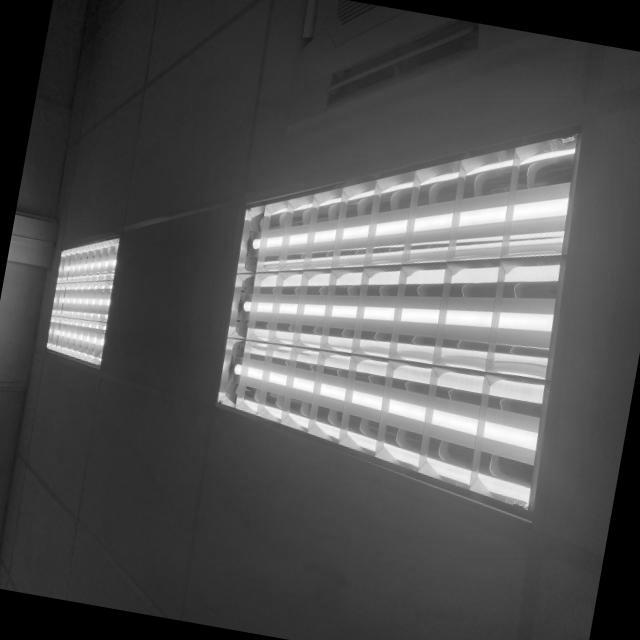light: (215, 132, 577, 511), (45, 236, 119, 367)
